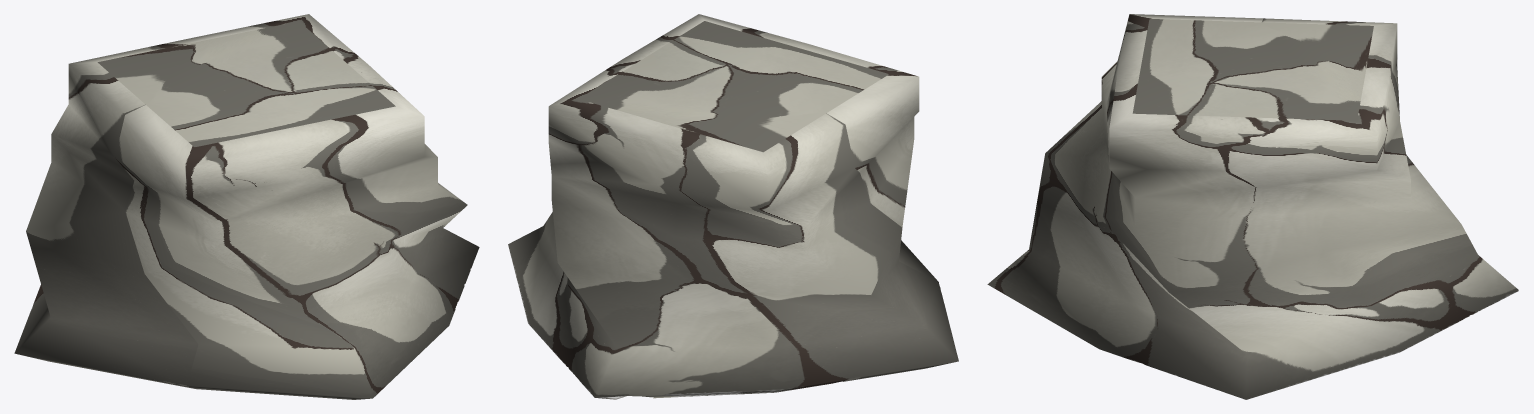
The model's file is earthspellpillar.fbx.
The picture shows the model from 3 angles, left to right: view 1: azimuth 30°, elevation 25°; view 2: azimuth 150°, elevation 25°; view 3: azimuth 270°, elevation 25°; orthographic projection.
Visible parts, largest first — view 1: Earth Spell Pillar; view 2: Earth Spell Pillar; view 3: Earth Spell Pillar.
Boxes of the visible parts, box(x1,y1,x2,y2) form: Earth Spell Pillar: box(14, 14, 479, 399); Earth Spell Pillar: box(508, 14, 958, 399); Earth Spell Pillar: box(987, 14, 1518, 399).
Size of the model in its own units: 335 by 175 by 335.
Materials: 1 (1 with a texture image).
